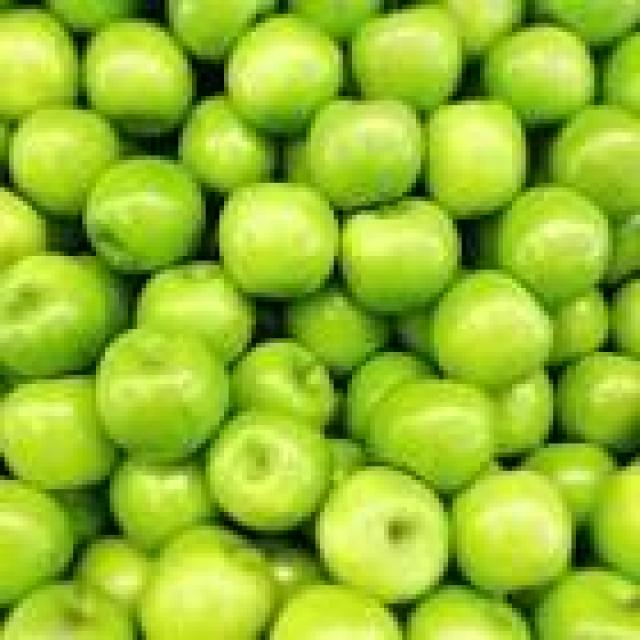apple: (96, 325, 228, 461), (316, 467, 447, 603), (206, 407, 333, 534), (138, 526, 278, 639), (366, 380, 498, 493), (224, 14, 342, 137), (215, 183, 338, 301), (430, 270, 553, 388), (453, 471, 571, 594), (0, 252, 114, 379), (83, 156, 205, 274), (339, 197, 461, 315), (494, 188, 612, 306), (307, 96, 425, 210), (83, 19, 196, 137), (0, 375, 114, 489), (10, 106, 118, 219), (138, 261, 255, 361), (426, 101, 525, 219), (352, 5, 461, 109), (485, 23, 594, 127), (549, 106, 639, 223), (110, 458, 219, 553), (0, 476, 73, 607), (179, 96, 278, 191), (284, 284, 388, 374), (234, 339, 338, 429), (0, 10, 77, 118), (558, 352, 639, 452), (343, 352, 434, 438), (5, 581, 137, 639), (535, 567, 639, 639), (526, 444, 617, 525), (270, 586, 402, 639), (407, 586, 530, 639), (165, 0, 260, 63), (74, 535, 150, 612), (590, 462, 639, 580), (494, 371, 553, 457), (439, 0, 525, 59), (549, 288, 612, 365), (535, 0, 639, 45), (83, 256, 137, 338), (261, 540, 324, 607), (0, 188, 50, 269), (288, 0, 383, 41), (55, 485, 109, 543), (46, 0, 141, 31), (604, 32, 639, 114), (604, 215, 639, 283), (394, 307, 434, 365), (613, 279, 639, 361), (330, 439, 365, 484), (284, 138, 310, 182)
